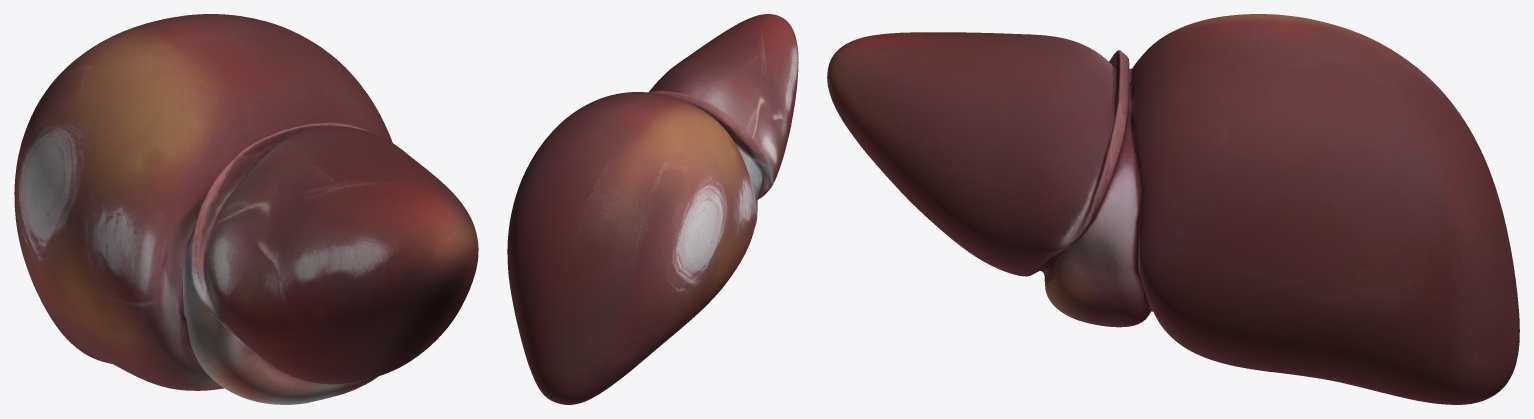
File: rabbit_liver.glb
The picture shows the model from 3 angles, left to right: view 1: azimuth 30°, elevation 25°; view 2: azimuth 150°, elevation 25°; view 3: azimuth 270°, elevation 25°; orthographic projection. The views are drawn at different scales.
Parts seen in each view (by area): view 1: model; view 2: model; view 3: model.
Boxes of the visible parts, x1,y1,x2,y2 form: model: (14,14,478,404); model: (507,14,798,404); model: (827,14,1519,404).
Bounding box in the file's own units: 0.8751 × 1.1 × 1.9.
1 material, 1 textured.
